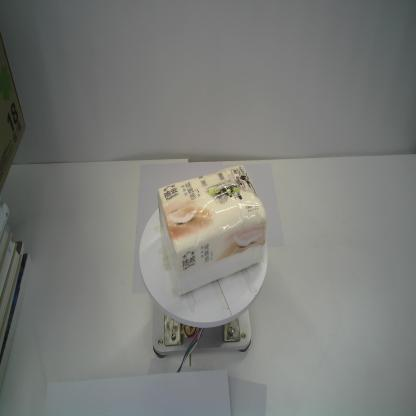Tissue: (156, 163, 269, 299)
